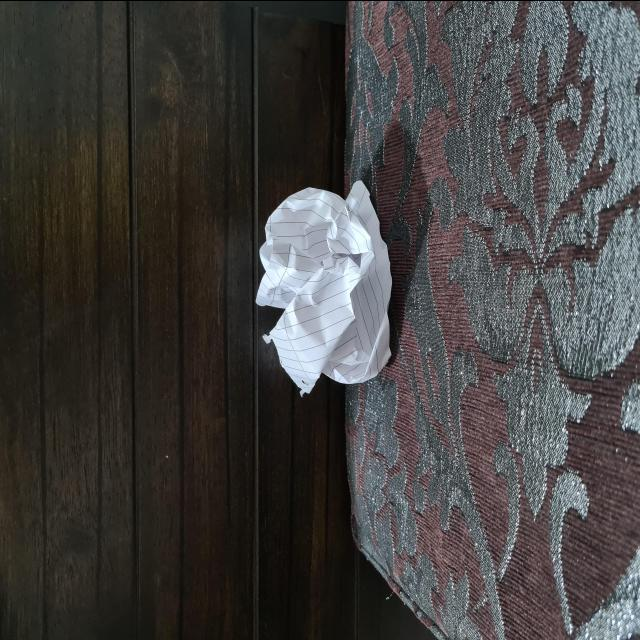kertas: (262, 171, 395, 396)
